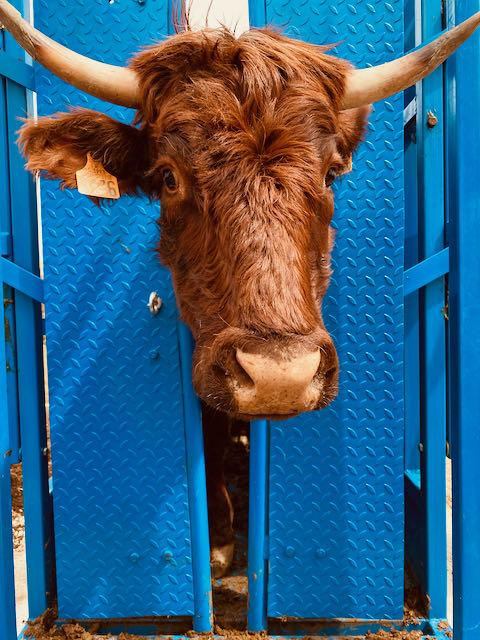muzzles: (183, 332, 345, 427)
